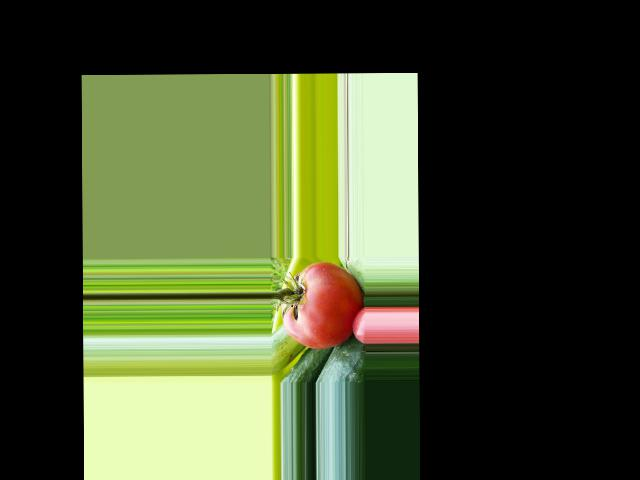tomato: (282, 261, 364, 348)
